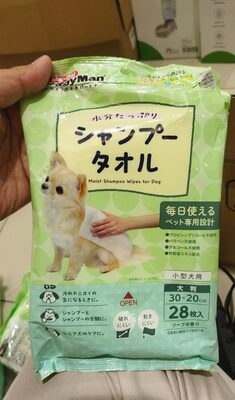doggy man sampo tisu basah: (12, 20, 223, 380)
